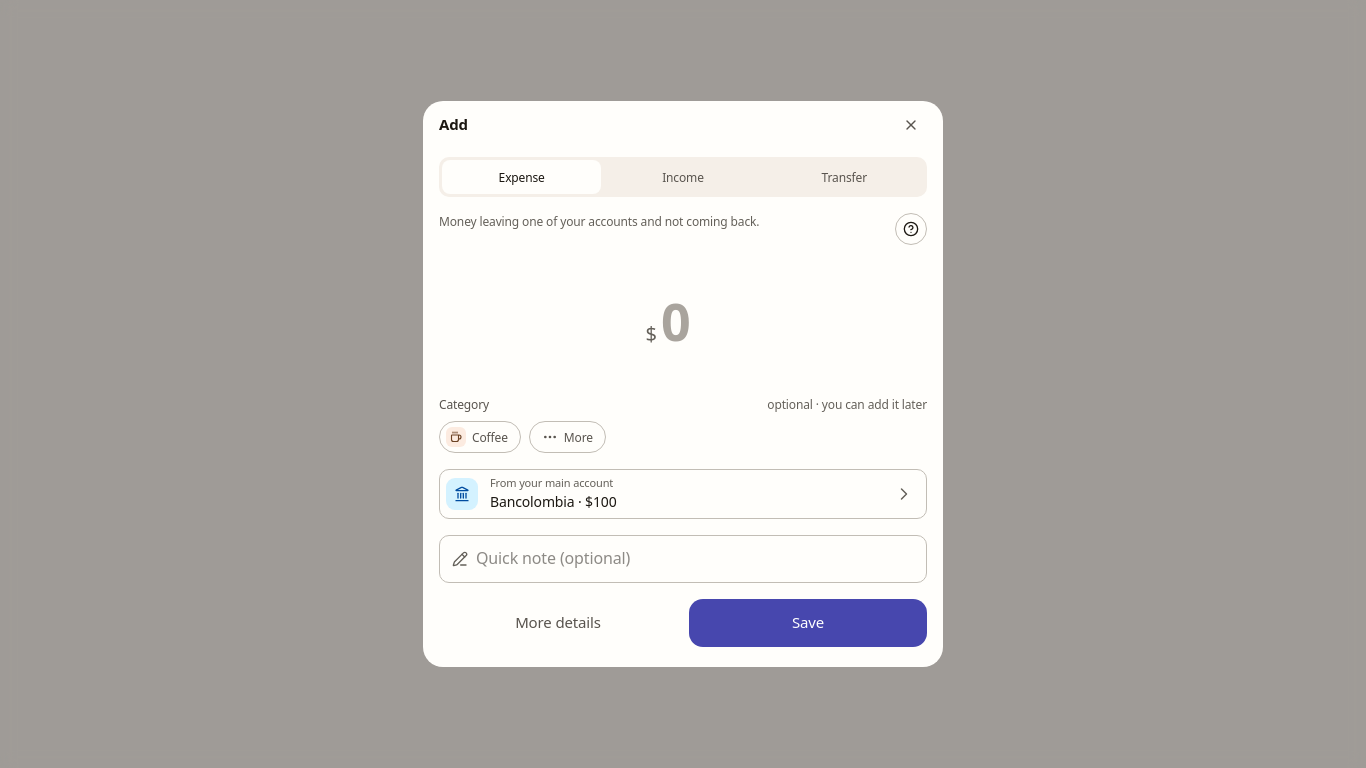
Scenario: QuickAddSheet › keeps the sheet open after picking another account from the nested picker
Click the button "From your main account Bancolombia · $100": (462, 494) x1=439 y1=469 x2=927 y2=519
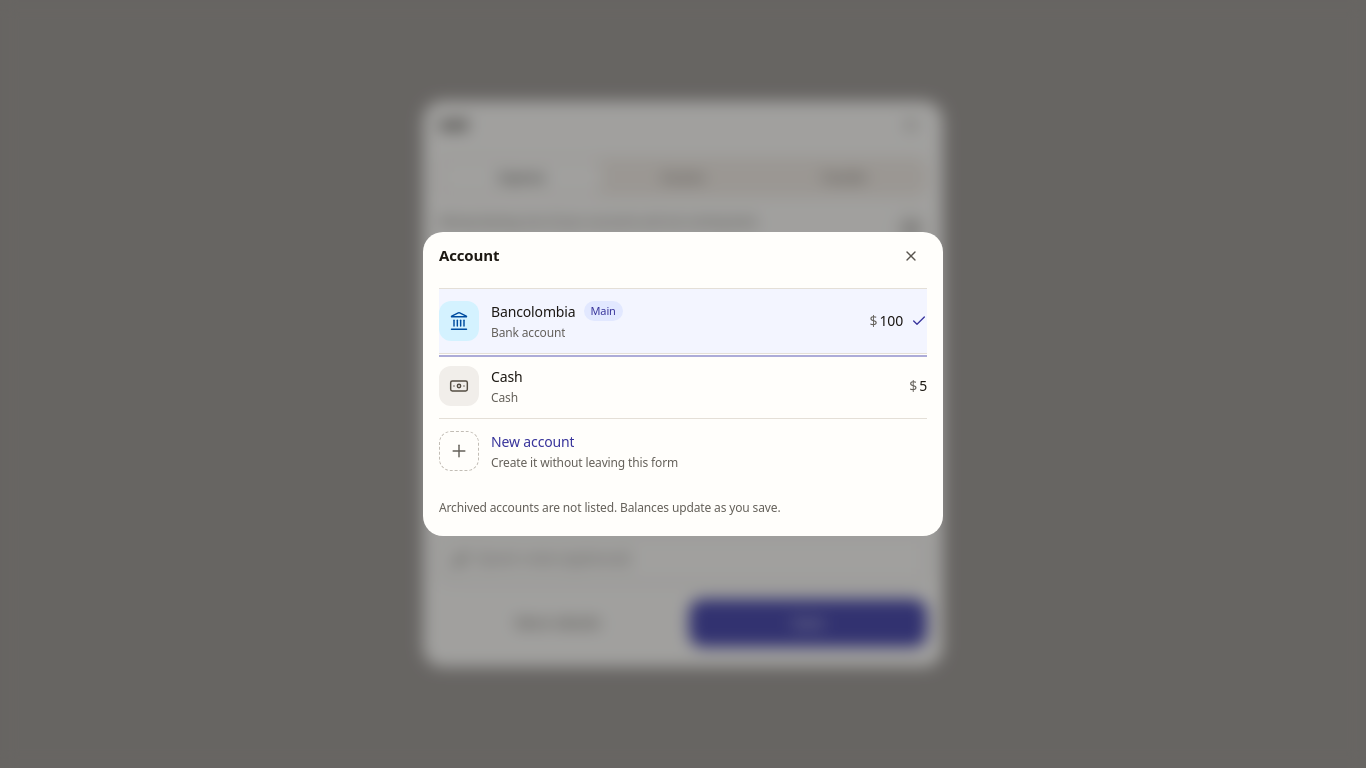
Click the option "Cash Cash $5": (459, 386) x1=423 y1=353 x2=943 y2=418
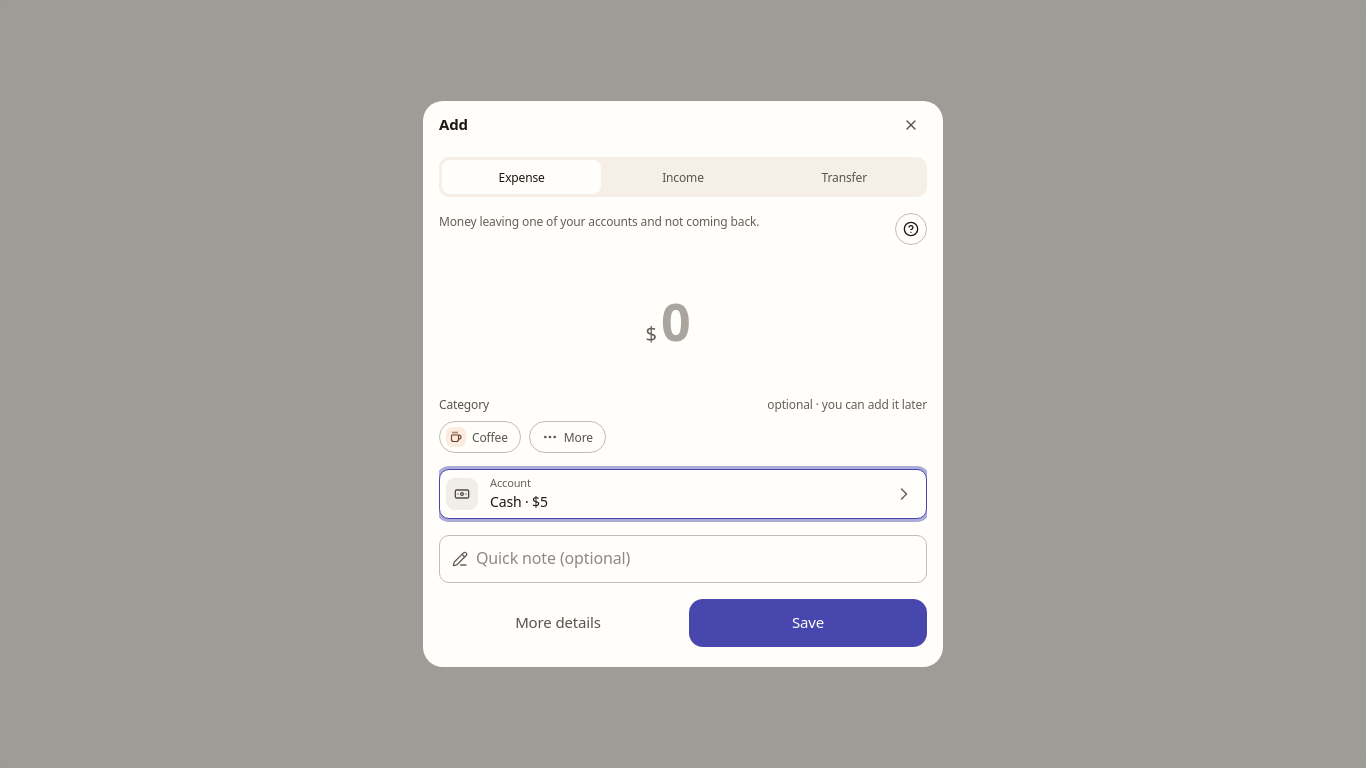
Check: the button "Account Cash · $5" is shown, box x1=439 y1=469 x2=927 y2=519
